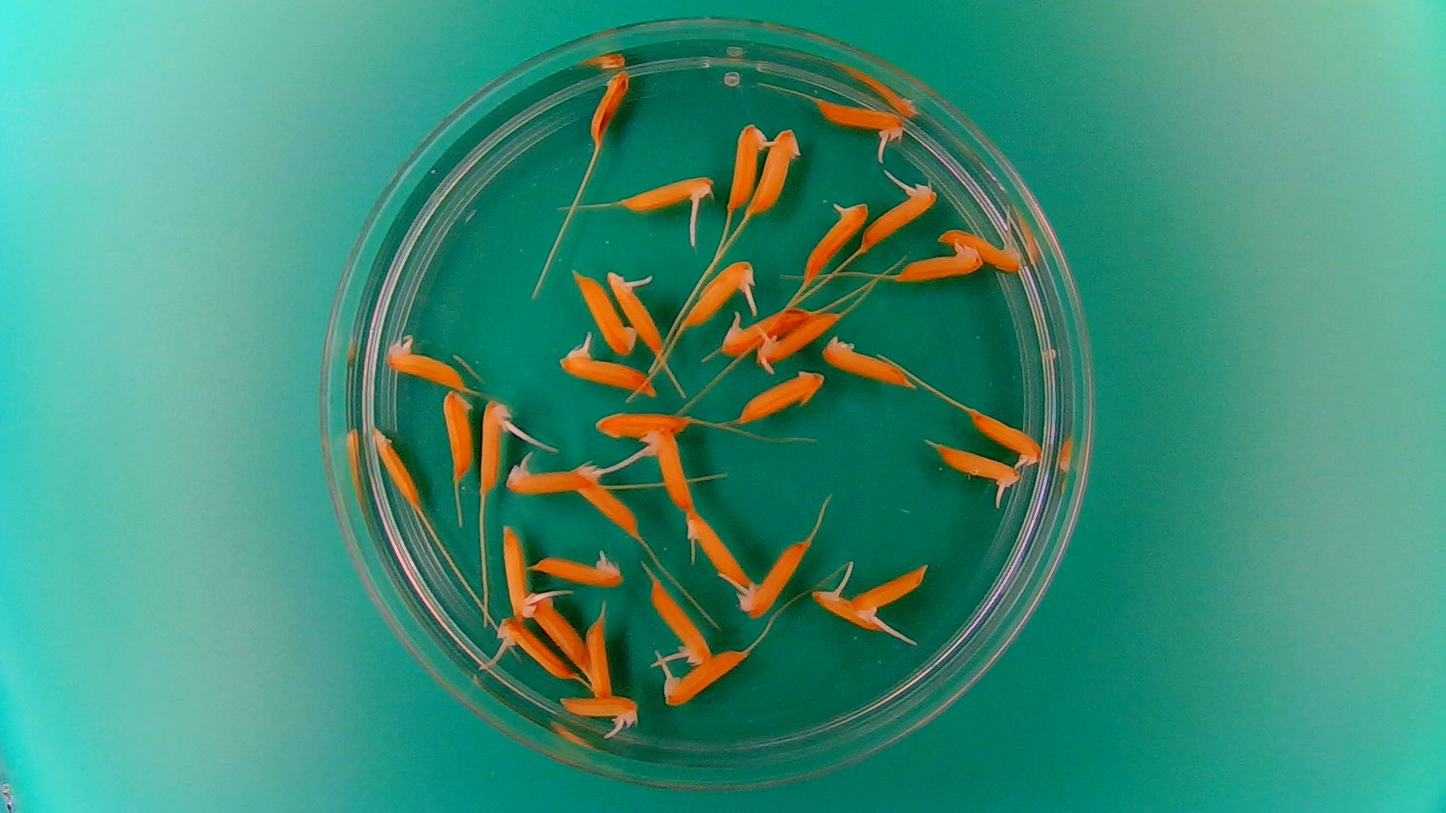no: (571, 268, 636, 355), (736, 365, 827, 425), (820, 333, 914, 388), (529, 591, 591, 670), (748, 127, 801, 215), (369, 425, 423, 511), (588, 410, 693, 446), (586, 68, 633, 148), (899, 242, 983, 282), (440, 387, 475, 482), (585, 613, 612, 701)
yes: (646, 570, 715, 667), (492, 614, 581, 682), (569, 459, 642, 538), (802, 196, 869, 280), (859, 180, 937, 251), (606, 266, 667, 355), (658, 647, 748, 707), (685, 509, 752, 588), (741, 537, 805, 618), (757, 307, 840, 369), (681, 257, 754, 327), (718, 310, 819, 359), (560, 348, 655, 396), (968, 410, 1043, 470), (856, 564, 932, 623), (643, 427, 694, 510), (528, 546, 628, 588), (814, 97, 905, 142), (728, 120, 772, 209), (389, 340, 469, 388), (939, 227, 1025, 270), (936, 447, 1017, 492), (477, 397, 514, 492), (624, 175, 712, 214), (501, 522, 535, 622), (502, 454, 581, 495), (811, 589, 886, 632), (554, 693, 640, 728)
